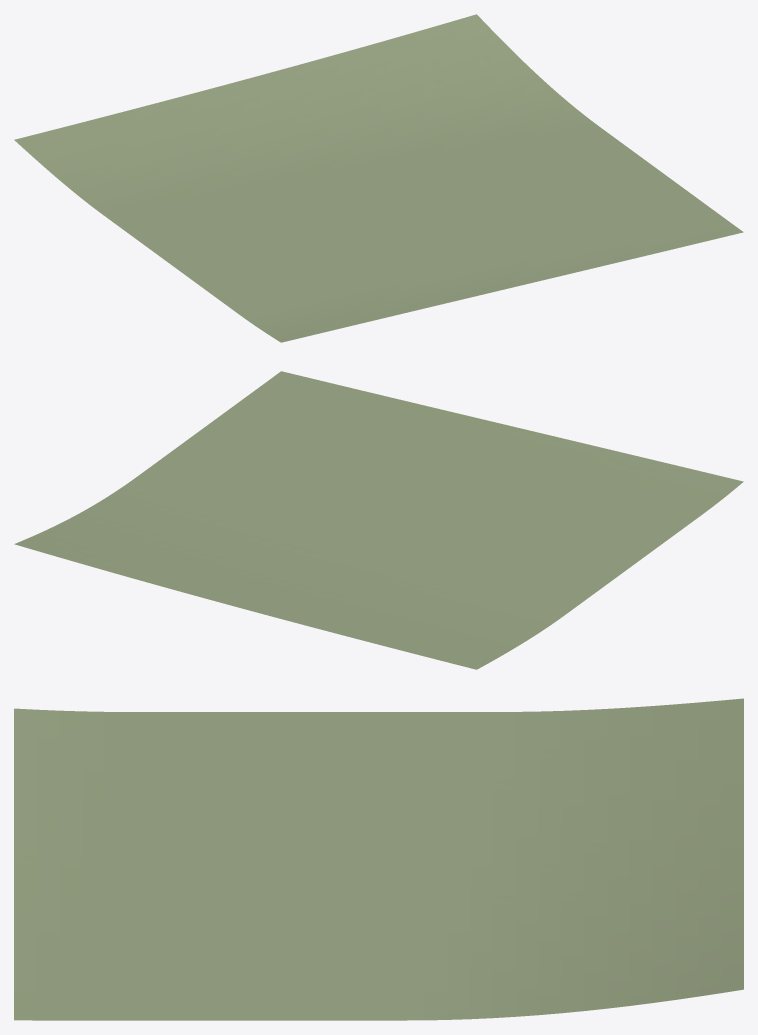
The model's file is valley-9-7.glb.
The picture shows the model from 3 angles, top to bottom: view 1: azimuth 30°, elevation 25°; view 2: azimuth 150°, elevation 25°; view 3: azimuth 270°, elevation 25°; orthographic projection. The views are drawn at different scales.
Parts seen in each view (by area): view 1: valley-9-7; view 2: valley-9-7; view 3: valley-9-7.
Boxes of the visible parts, x1,y1,x2,y2 form: valley-9-7: (14, 14, 743, 342); valley-9-7: (14, 371, 743, 669); valley-9-7: (14, 698, 743, 1020).
Size of the model in its own units: 256 by 11.95 by 256.
